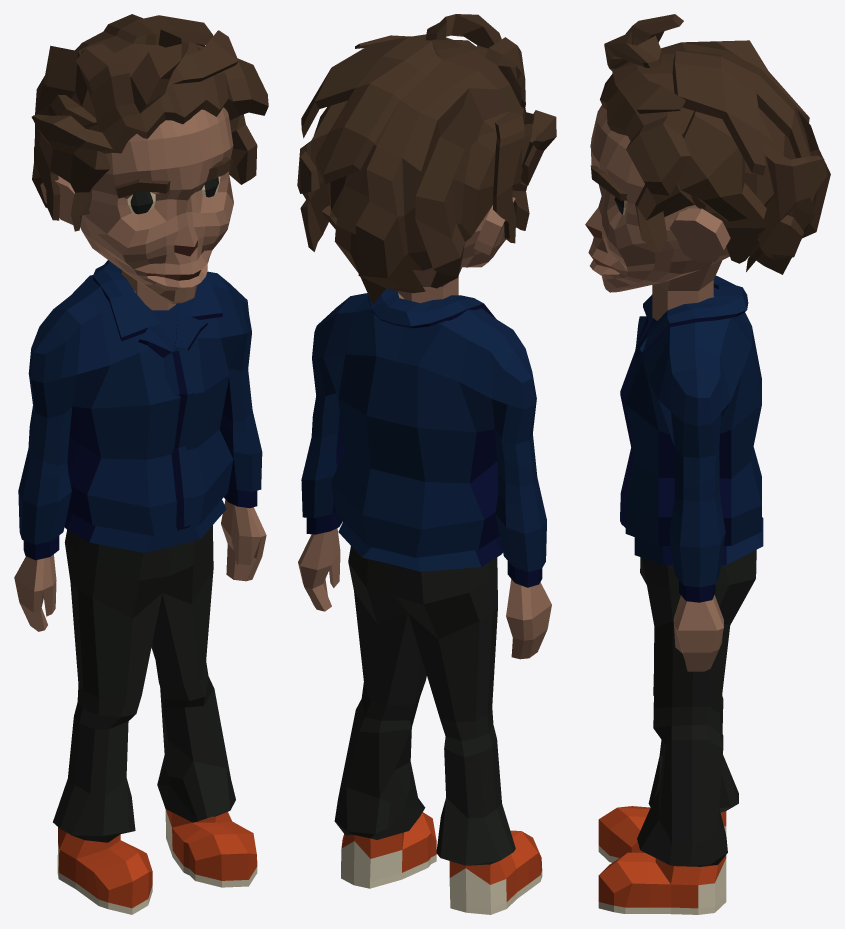
Rendered from Character.fbx.
3 views of the same model, side by side, from view 1: azimuth 30°, elevation 25°; view 2: azimuth 150°, elevation 25°; view 3: azimuth 270°, elevation 25° (orthographic).
Parts seen in each view (by area): view 1: Character; view 2: Character; view 3: Character.
Part boxes in pixels (x1,y1,x2,y2): Character: [14, 14, 268, 914]; Character: [297, 14, 556, 914]; Character: [585, 14, 830, 914].
Size of the model in its own units: 340 by 1174 by 310.
